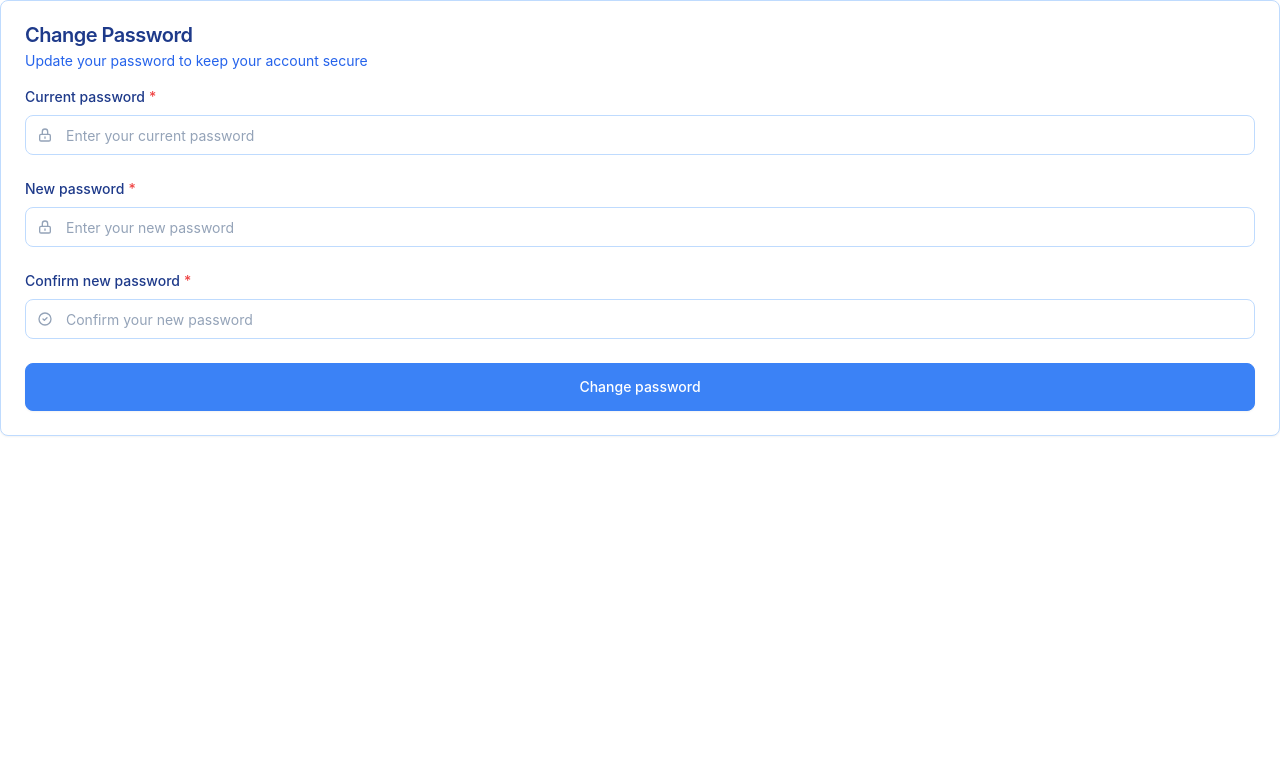
Scenario: ChangePasswordForm › Form Validation › should show error for weak new password
Type "oldpassword" into the password field labelled "Current password*" at (640, 135), box [25,115,1255,155]
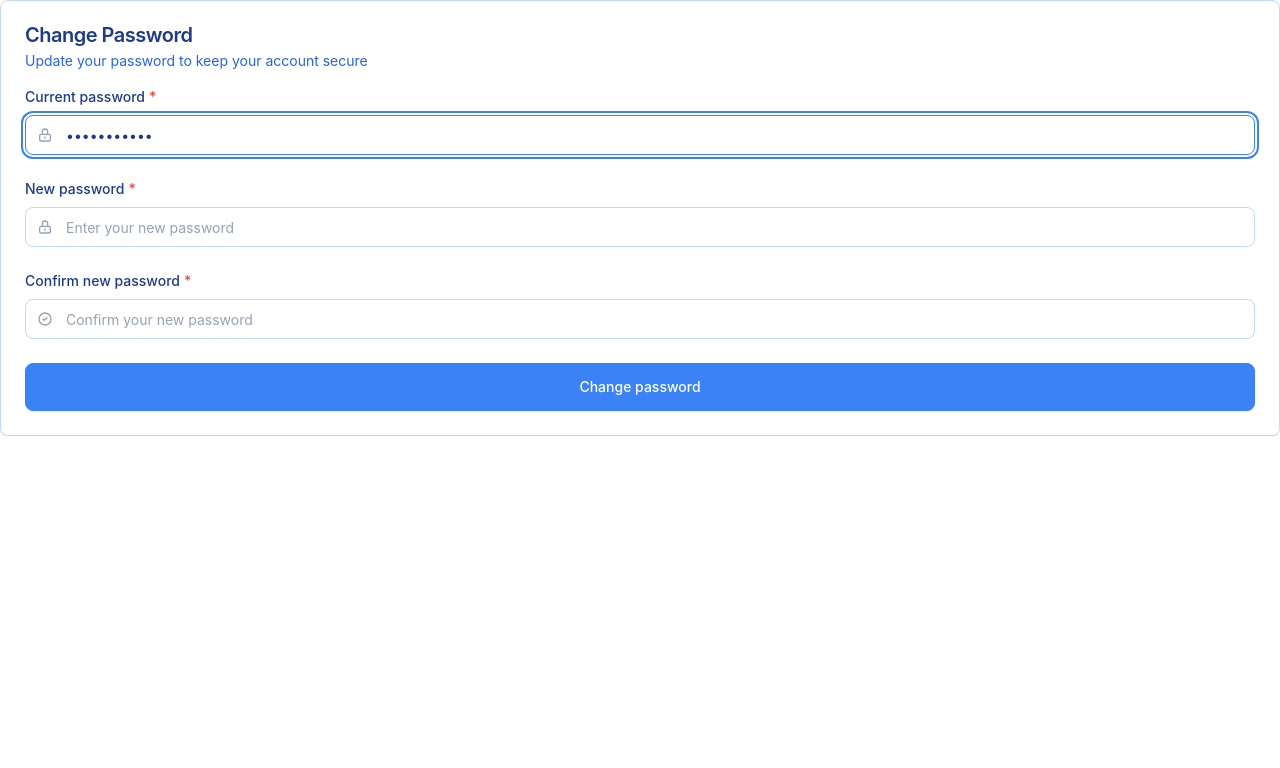
Type "weak" into the password field labelled "New password*" at (640, 227), box [25,207,1255,247]
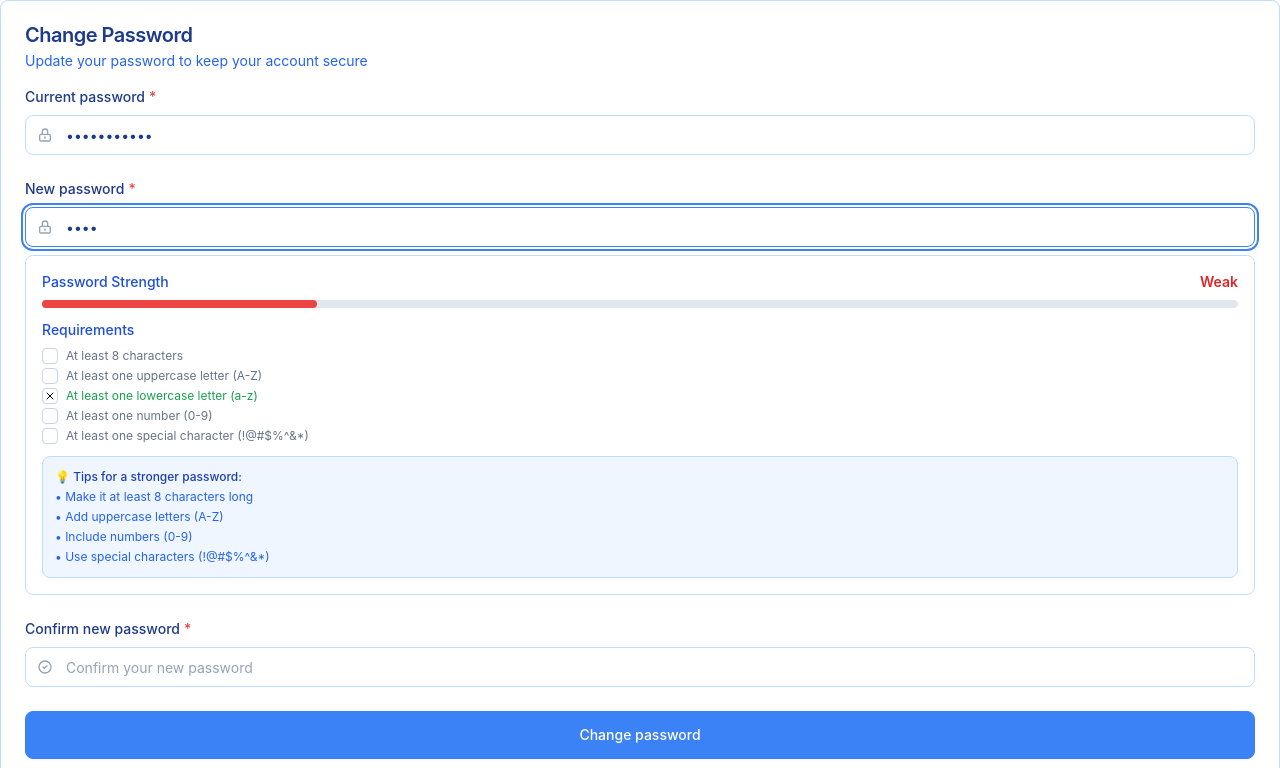
Submit the form
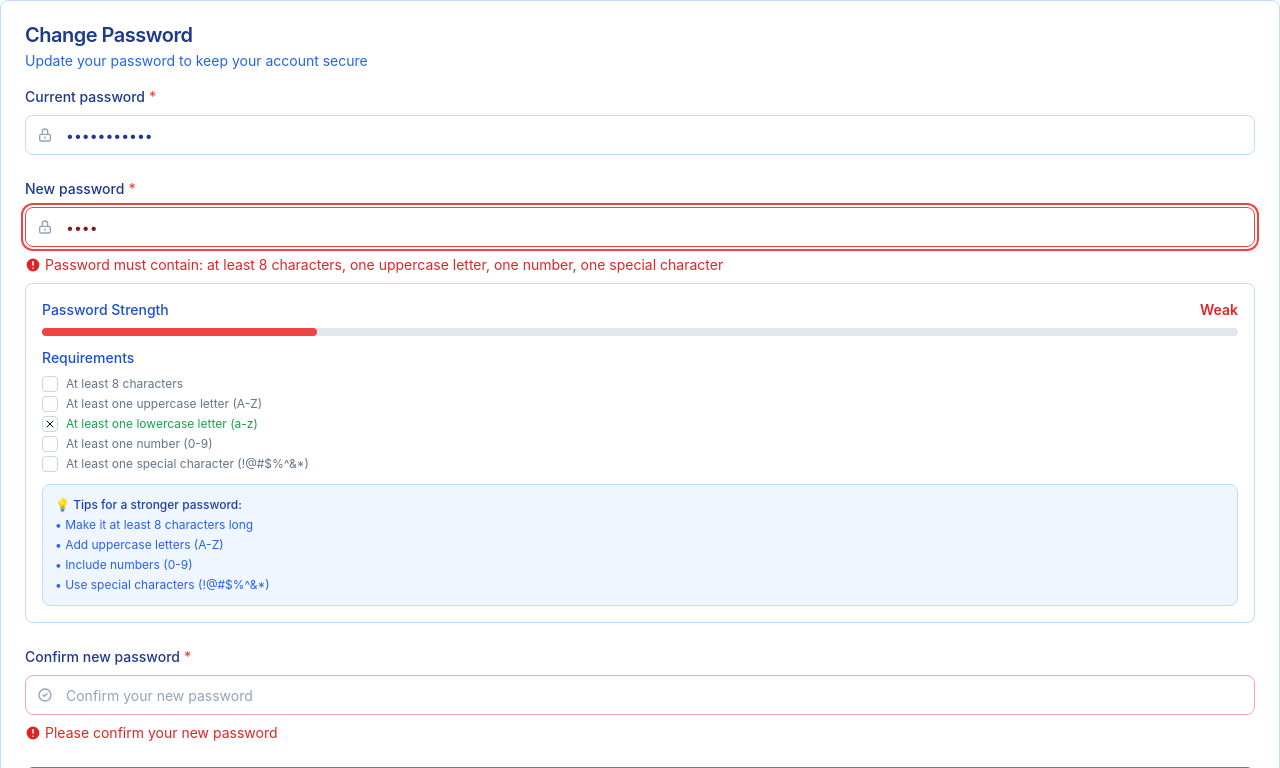
Result: the text "Password must contain:" is shown at [45,256,723,273]
